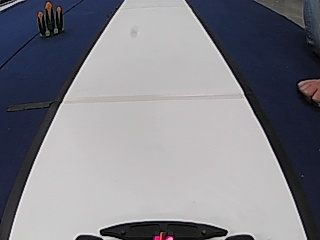corn: (35, 0, 66, 39)
